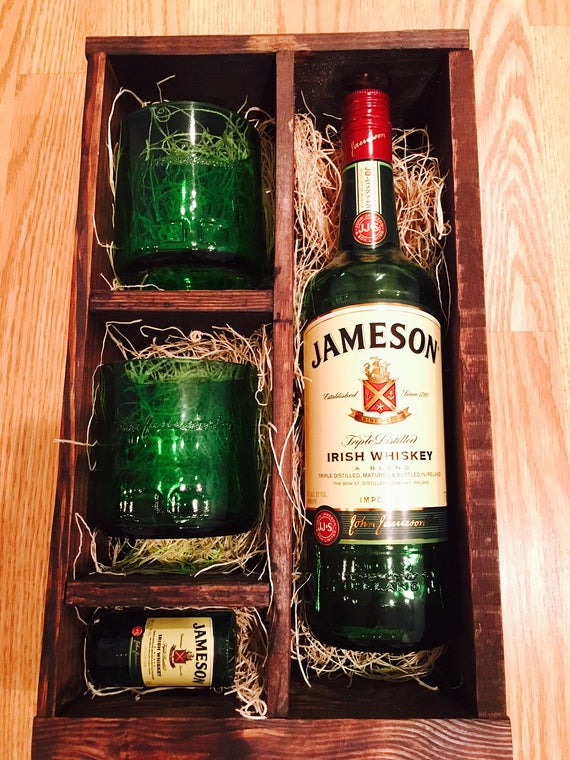Jameson: (296, 84, 466, 658)
